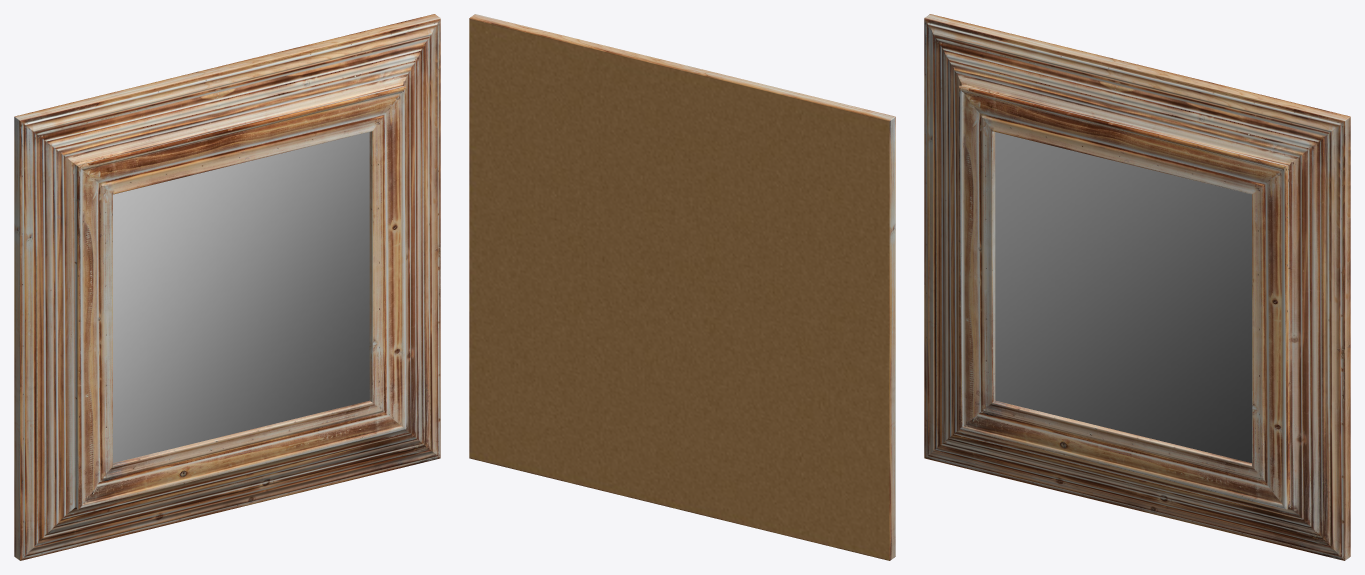
The model's file is mirror_B073WH6N3R.glb.
The picture shows the model from 3 angles, left to right: view 1: azimuth 30°, elevation 25°; view 2: azimuth 150°, elevation 25°; view 3: azimuth 330°, elevation 25°; orthographic projection.
Parts seen in each view (by area): view 1: RootNode; view 2: RootNode; view 3: RootNode.
Part boxes in pixels (x1,y1,x2,y2): RootNode: (14,14,440,560); RootNode: (469,14,895,560); RootNode: (924,14,1350,560).
Bounding box in the file's own units: 0.8043 × 0.8043 × 0.0612.
Materials: 1 (1 with a texture image).
